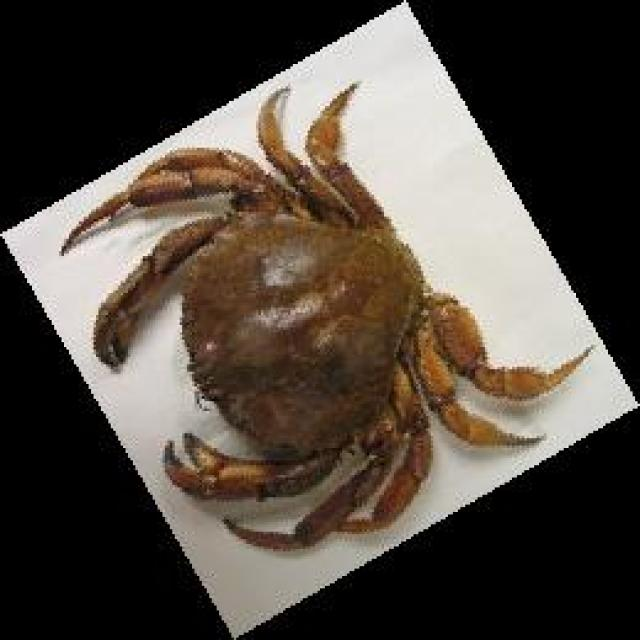Native Rock crab: (59, 81, 588, 551)
